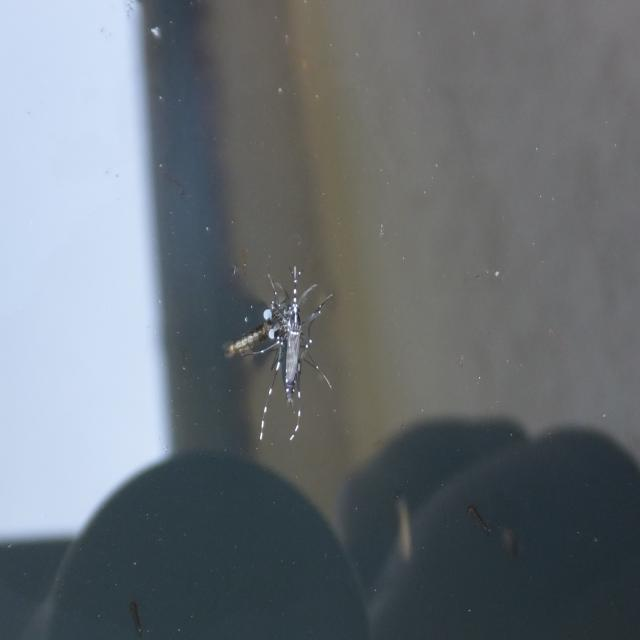albopictus: (223, 257, 340, 440)
